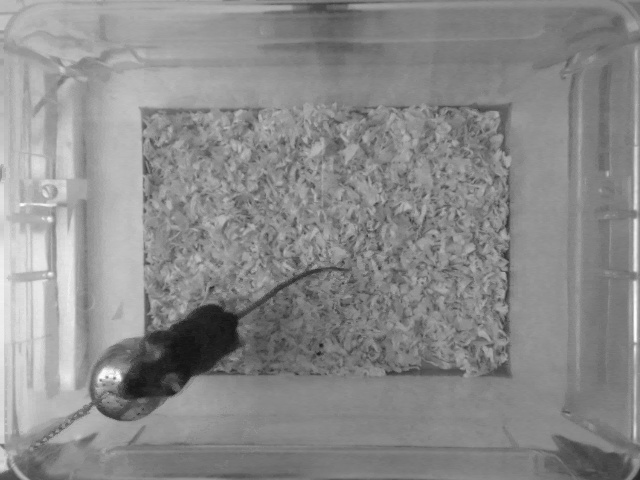mice: (117, 259, 357, 404)
